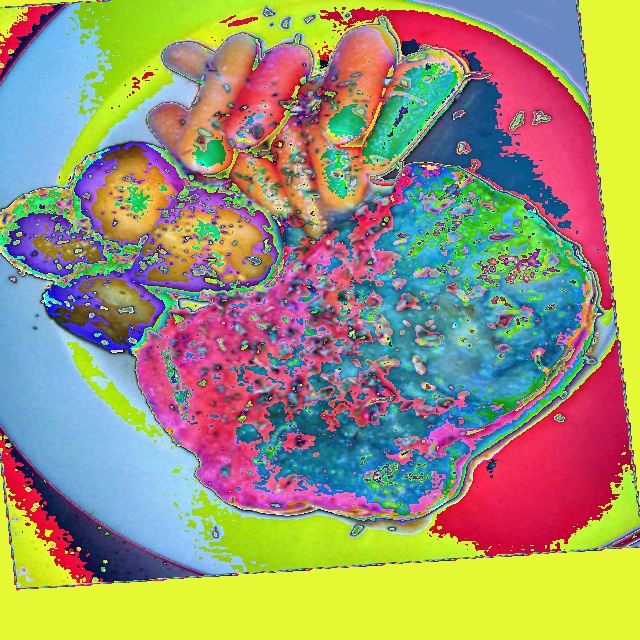background: (0, 24, 604, 518)
